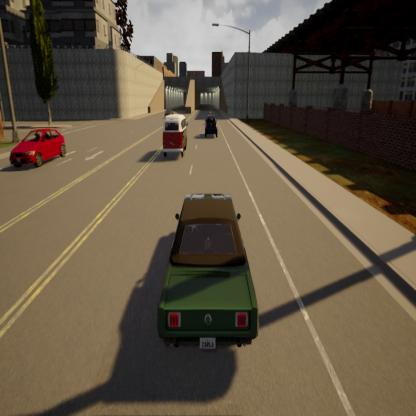Cars: (152, 186, 265, 368), (6, 122, 71, 170), (158, 107, 190, 160), (203, 112, 221, 137)
